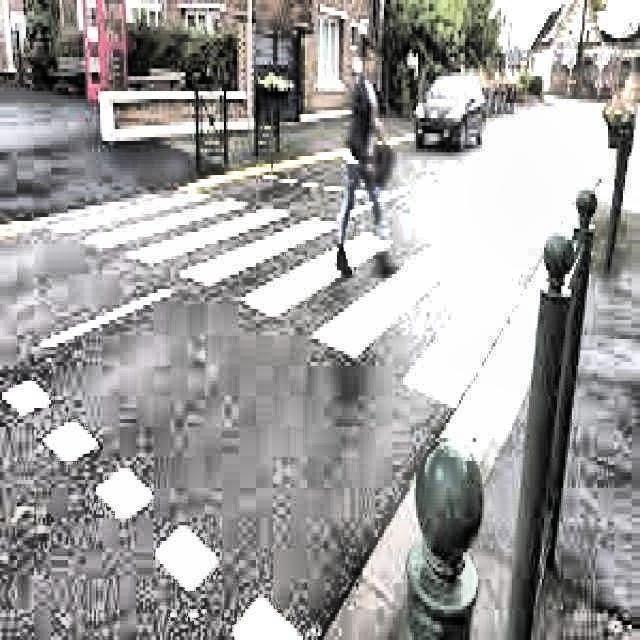faixa de pedestre: (26, 184, 519, 401)
